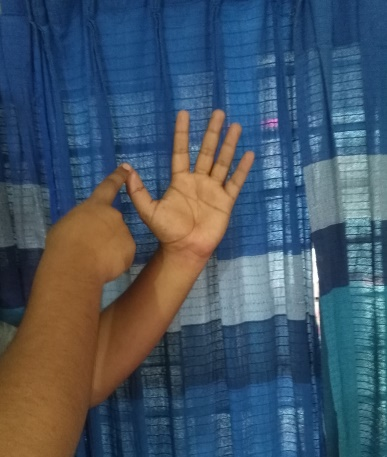a: (69, 108, 252, 265)
